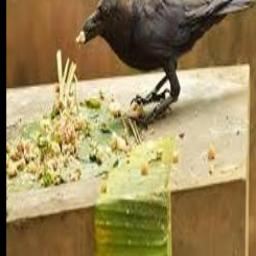Crow: (79, 0, 256, 113)
